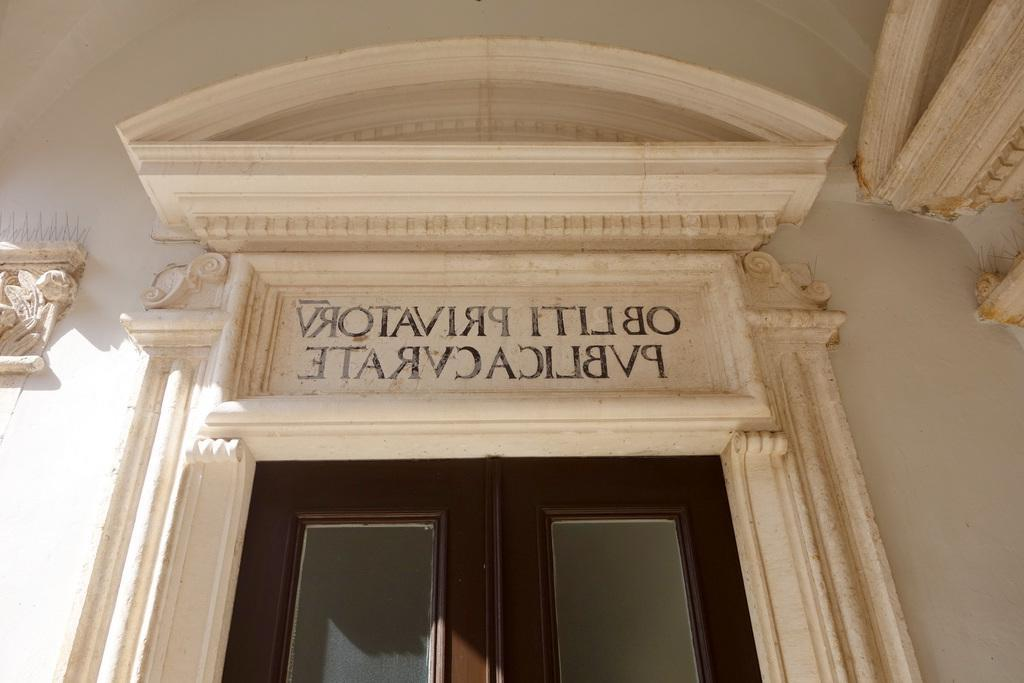door: (256, 471, 490, 683), (511, 459, 711, 683)
